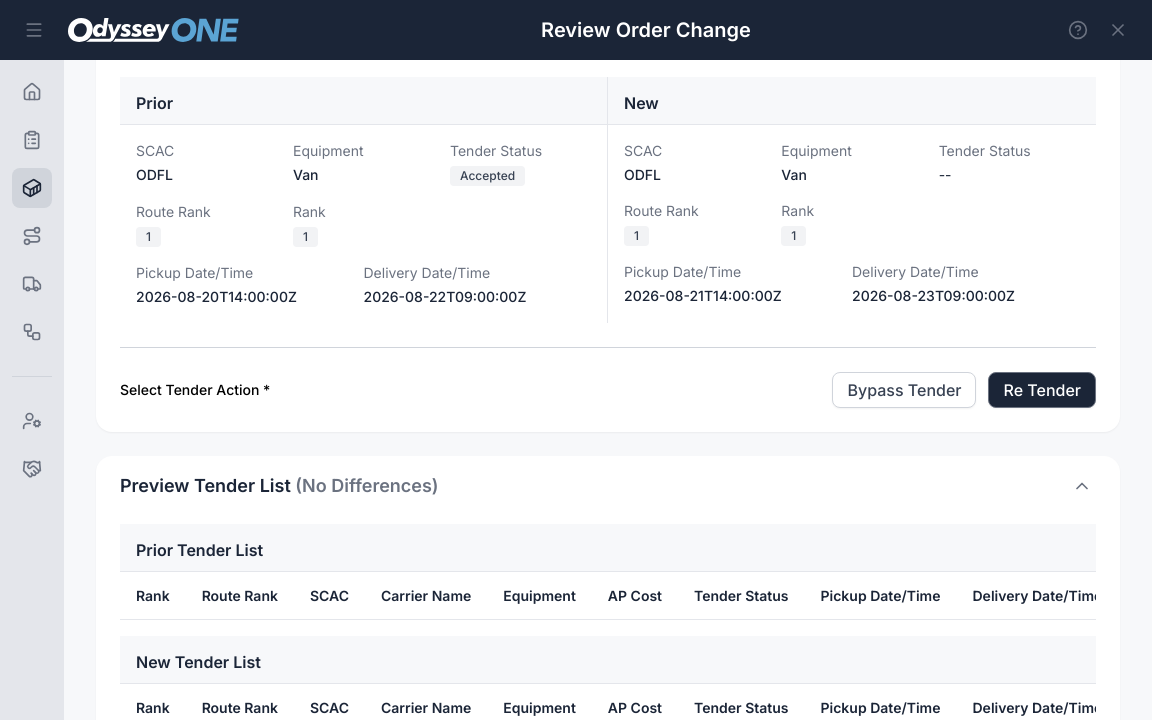
Test case: OrderChangeReviewRoute › a server 409 (D2/E4) shows its own message
(page scrolled)
Click the button "Bypass Tender".
click(904, 390)  # box x1=832 y1=372 x2=976 y2=408
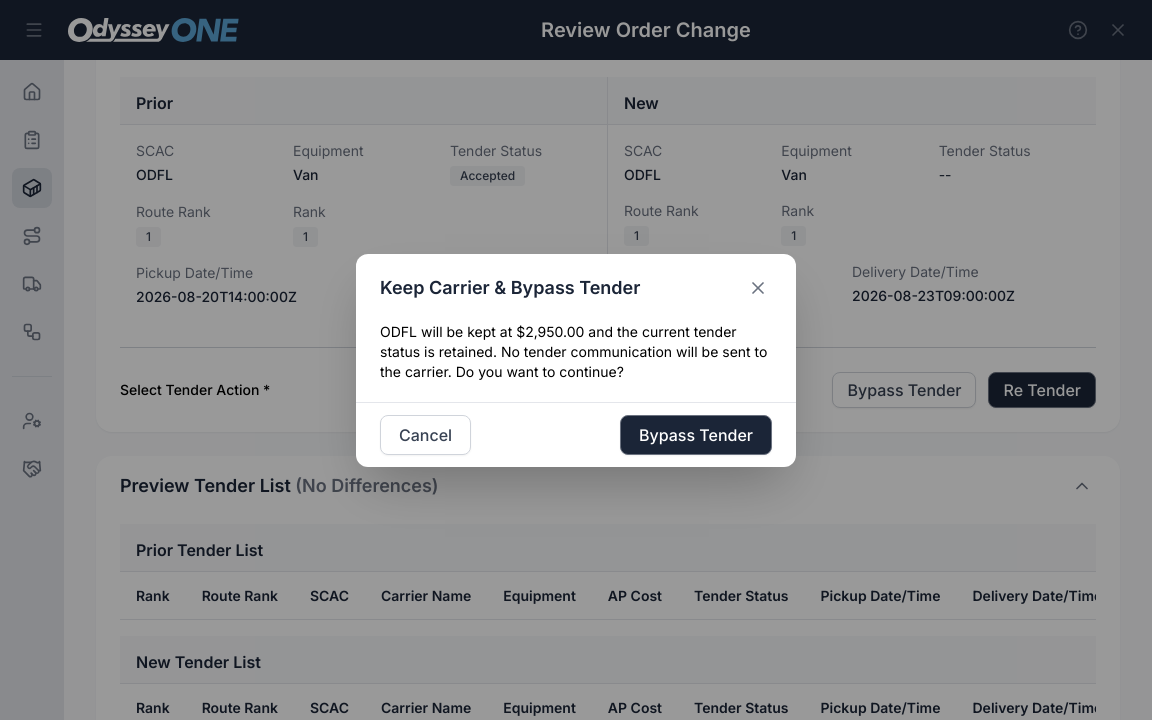
Click the button "Bypass Tender".
click(696, 434)  # box x1=620 y1=414 x2=772 y2=454
(page scrolled)
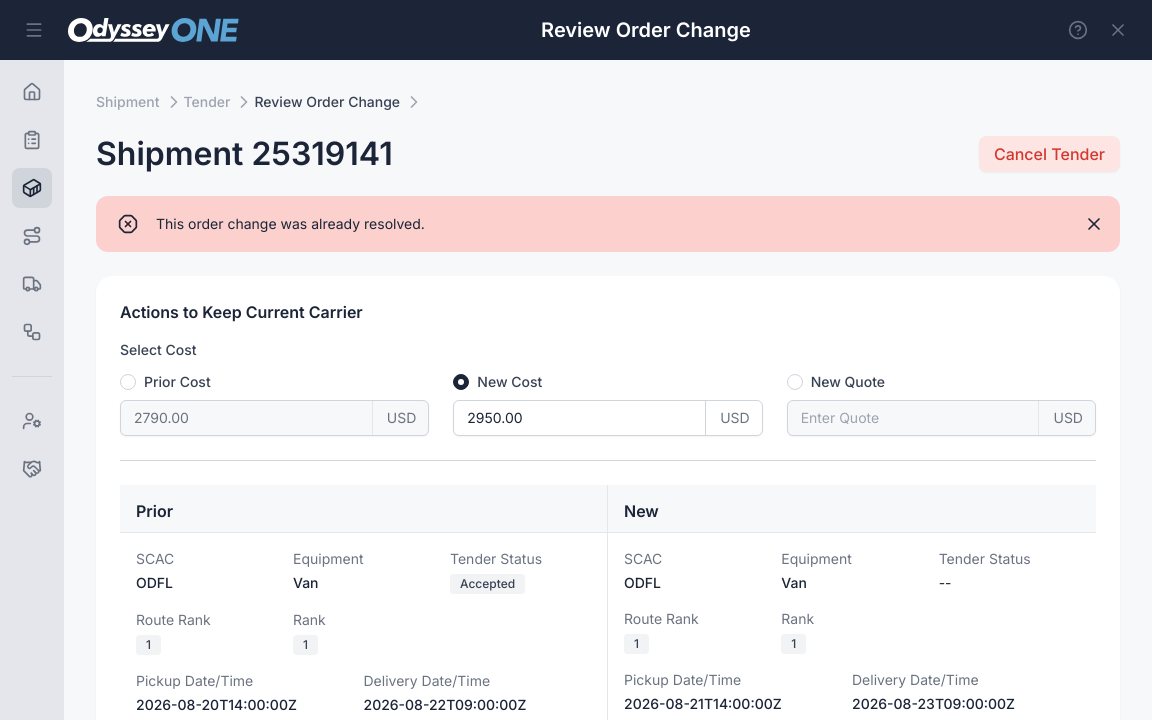
Check: the text "This order change was already resolved." is shown, box x1=156 y1=215 x2=425 y2=232
